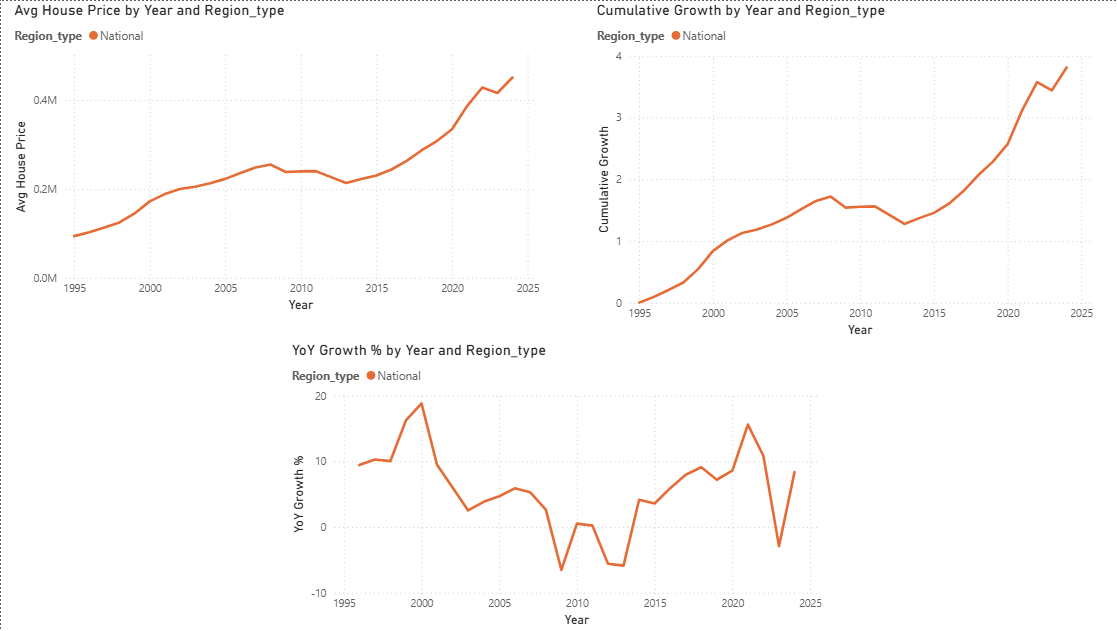

This screenshot's page, from the dashboard's own definition file:
{"tool":"powerbi","page":{"name":"Page 1","canvas":[1280,720],"ordinal":0},"visuals":[{"type":"lineChart","fields":{"Category":["housing.Year"],"Series":["housing.Region_type"],"Y":["housing.Avg House Price"]},"box":[10,0,610,360],"z":0},{"type":"lineChart","fields":{"Category":["housing.Year"],"Y":["housing.YoY Growth %"],"Series":["housing.Region_type"]},"box":[327.1,388.6,615.7,331.4],"z":1001},{"type":"lineChart","fields":{"Category":["housing.Year"],"Y":["housing.Cumulative Growth"],"Series":["housing.Region_type"]},"box":[675.7,0,577.1,388.6],"z":1002}]}

Visuals, with their boxes in screenshot pixels (x1, y1, x2, y2), scaled from the page's 1280x720 canvas onto the 1117x631 screenshot:
lineChart - housing.Year x housing.Region_type: pyautogui.locateOnScreen(9, 0, 541, 316)
lineChart - housing.Year x housing.YoY Growth %: pyautogui.locateOnScreen(285, 341, 823, 630)
lineChart - housing.Year x housing.Cumulative Growth: pyautogui.locateOnScreen(590, 0, 1093, 341)
